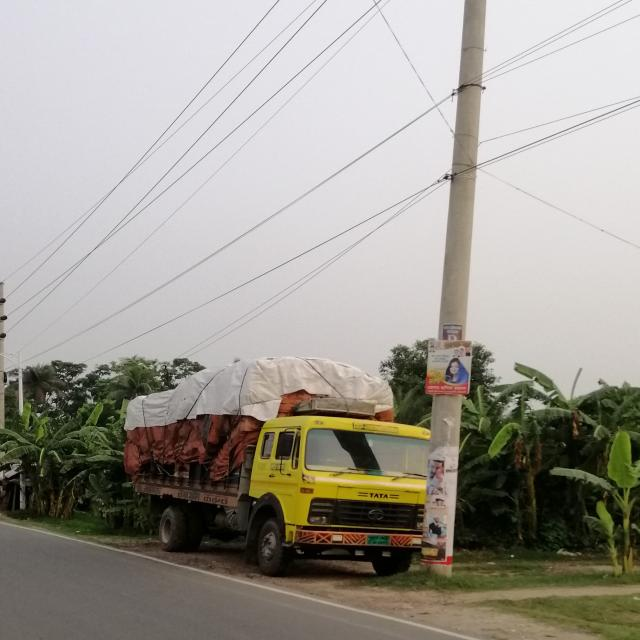Truck: (129, 355, 427, 582)
